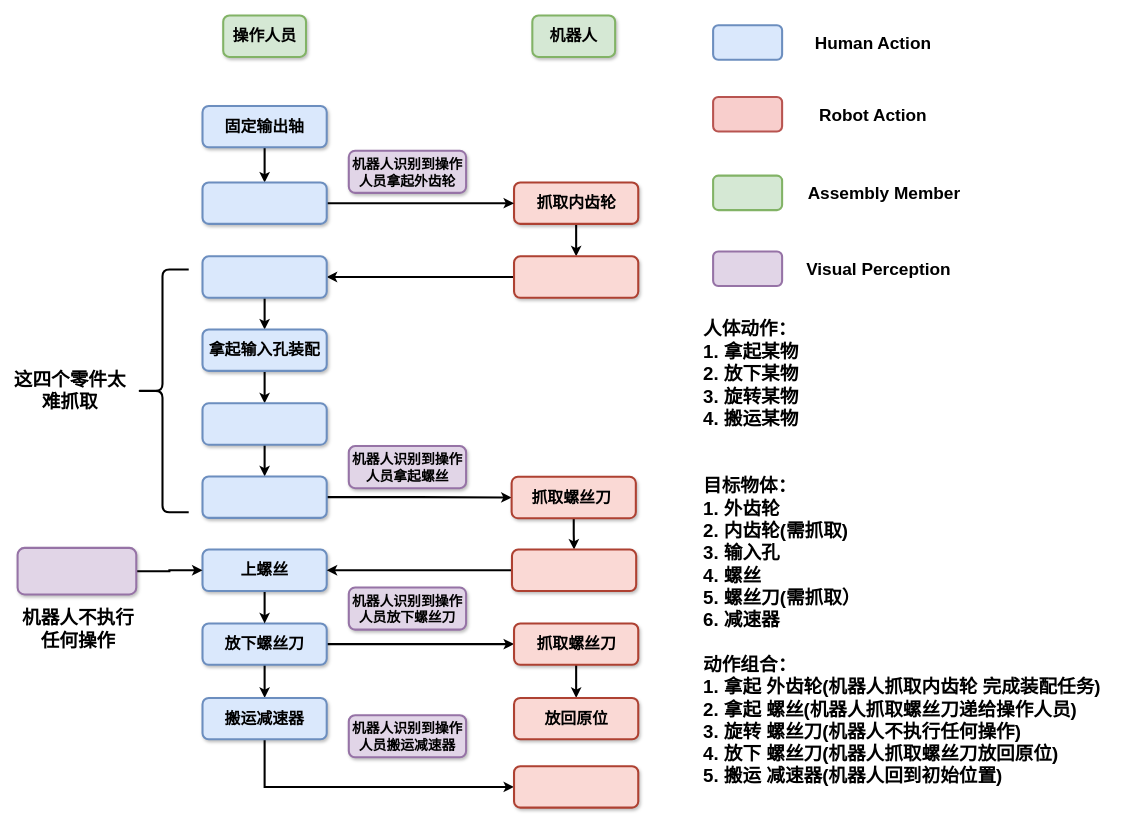
Image size: 1133x825. Some labels were removed from this diagram. The shapes that lost their labels are listed below. From the top down, each one's centre as x and y in pixels, then its label:
(x=265, y=203): 拿起外齿轮装配
(x=265, y=277): 拿起垫片装配
(x=576, y=277): 装配内齿轮
(x=265, y=424): 拿起装配底座
(x=265, y=497): 拿起螺丝装配
(x=77, y=572): 机器人识别到操作人员旋转螺丝刀
(x=574, y=571): 递给操作人员
(x=576, y=787): 回到初始位置
